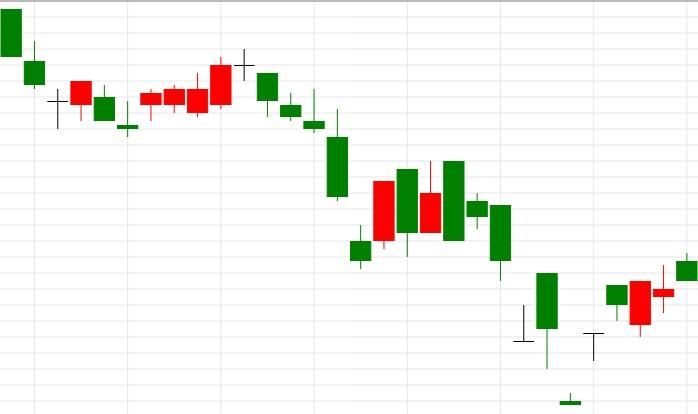morning_star_rise: (1, 8, 162, 137)
